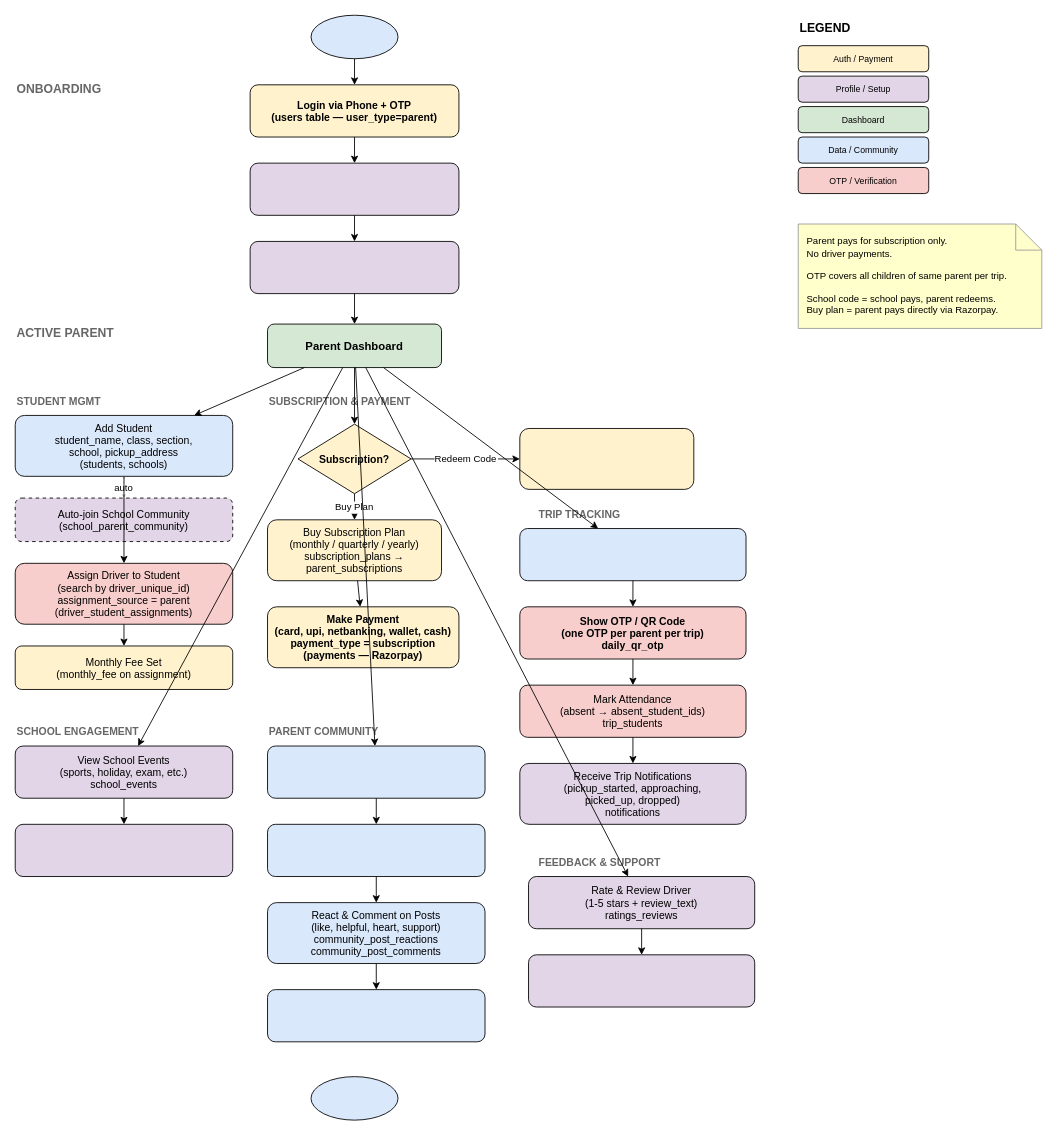
The diagram is 1057 pixels wide and 1135 high, and some of its shapes have lost their labels. Each missing label, with the centre of its shape:
"Add Home Address address, city, state, lat/long (parent_addresses)" goes at [354,267].
"Community Board (per-school, gated by membership) community_posts" goes at [376,771].
"Complete Parent Profile name, email, photo (parents table)" goes at [354,188].
"Connect with Other Parents (same school, opt-in) parent_connections" goes at [376,1015].
"Create Post (general, question, alert, recommendation) (can be anonymous)" goes at [376,850].
"End" goes at [354,1098].
"Raise Support Ticket (subject, description, priority) support_tickets" goes at [641,980].
"Redeem School Code (SCHSTDCD prefix) school_student_codes → parent_subscriptions" goes at [606,458].
"RSVP to Events (attending / not_attending / maybe) event_rsvp" goes at [123,850].
"Start" goes at [354,36].
"Track Trip Live (real-time driver location) trips, location_tracking" goes at [632,554].
